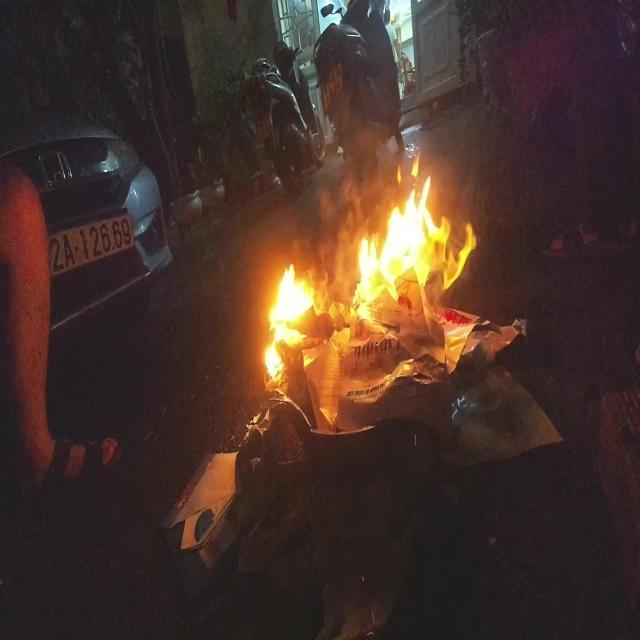Fire: (264, 152, 478, 387)
